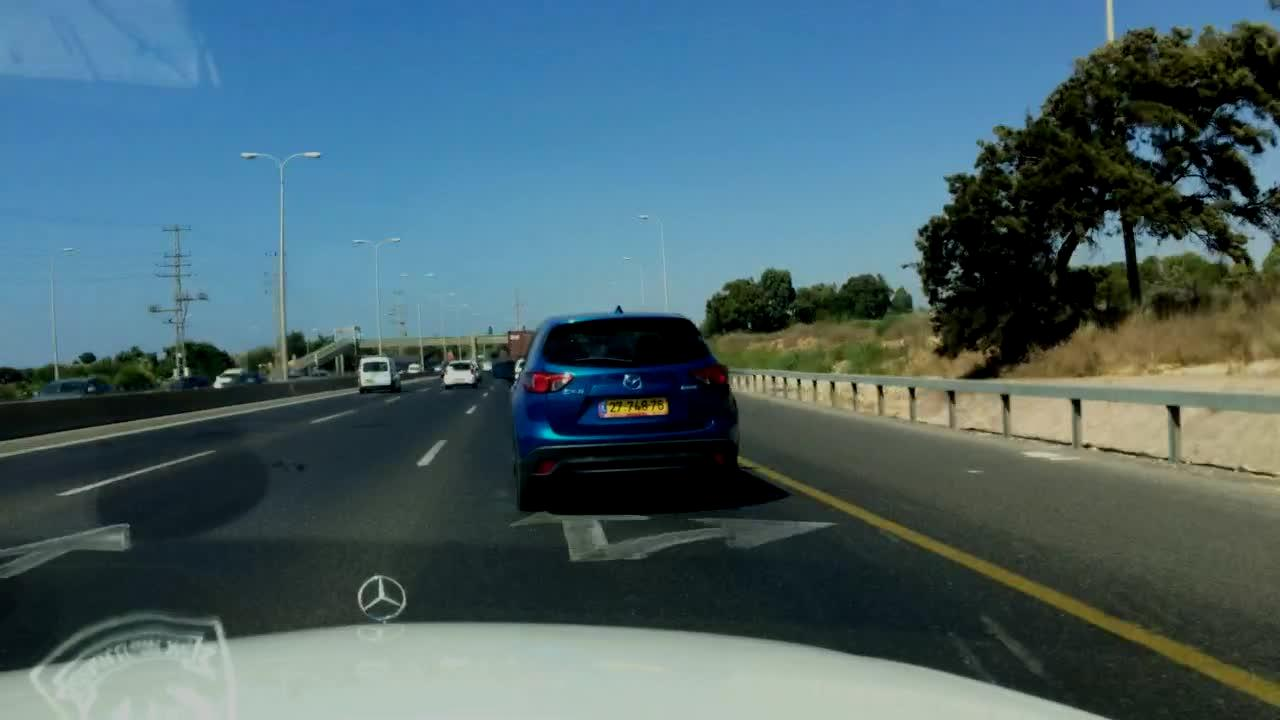Mazda: (615, 364, 646, 396)
Mercedes: (347, 570, 412, 626)
